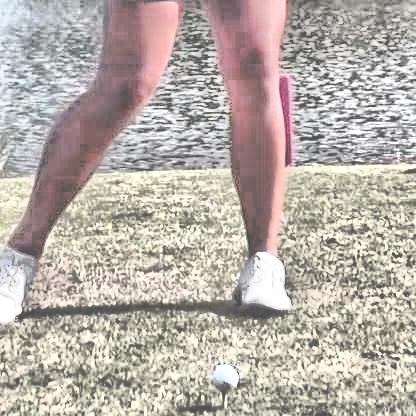golfball: (207, 361, 235, 391)
